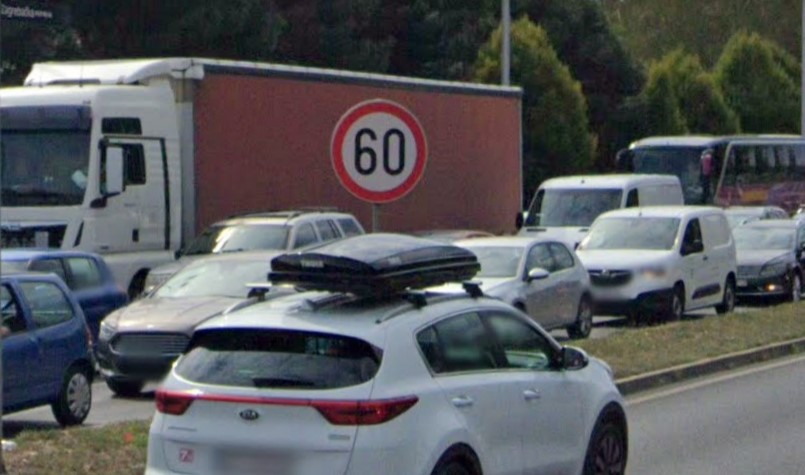Ograničenje brzine 60: (330, 98, 428, 203)
